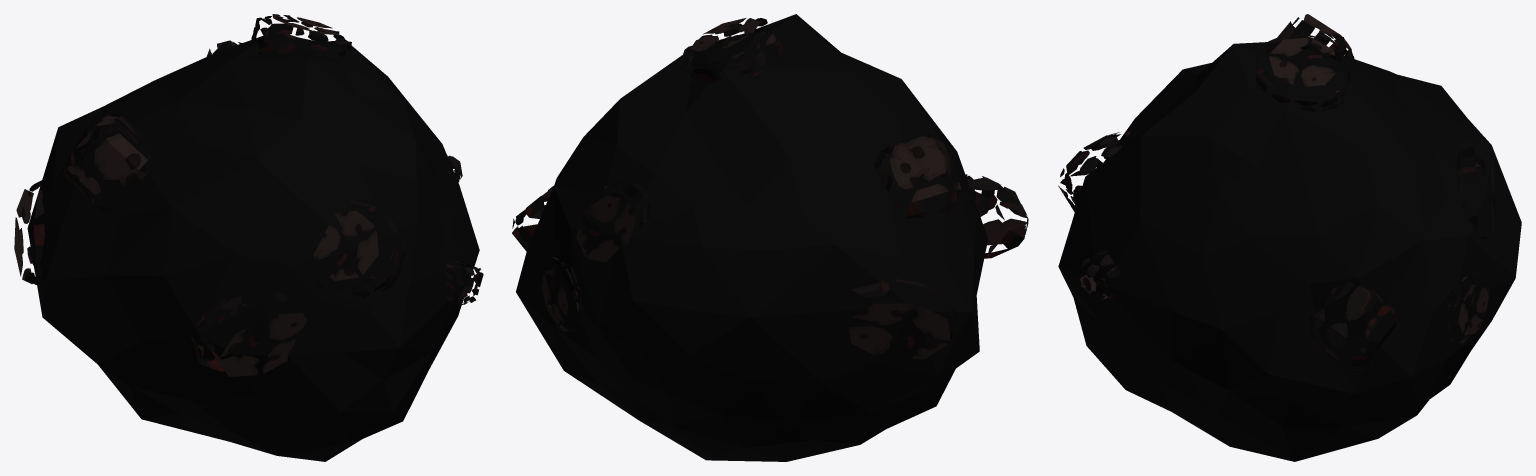
Rendered from RubyDeposit_v1.fbx.
3 renders of one model, left to right at view 1: azimuth 30°, elevation 25°; view 2: azimuth 150°, elevation 25°; view 3: azimuth 270°, elevation 25°, orthographic. The views are drawn at different scales.
Parts seen in each view (by area): view 1: Icosphere, Cylinder.007; view 2: Icosphere, Cylinder.007; view 3: Icosphere, Cylinder.007.
Boxes of the visible parts, x1,y1,x2,y2 form: Icosphere: (27,32,479,461); Cylinder.007: (14,14,483,376); Icosphere: (516,14,987,461); Cylinder.007: (512,18,1028,359); Icosphere: (1058,41,1521,461); Cylinder.007: (1058,14,1494,376).
Bounding box in the file's own units: 729 × 657 × 689.
Materials: 2 (2 with a texture image).
